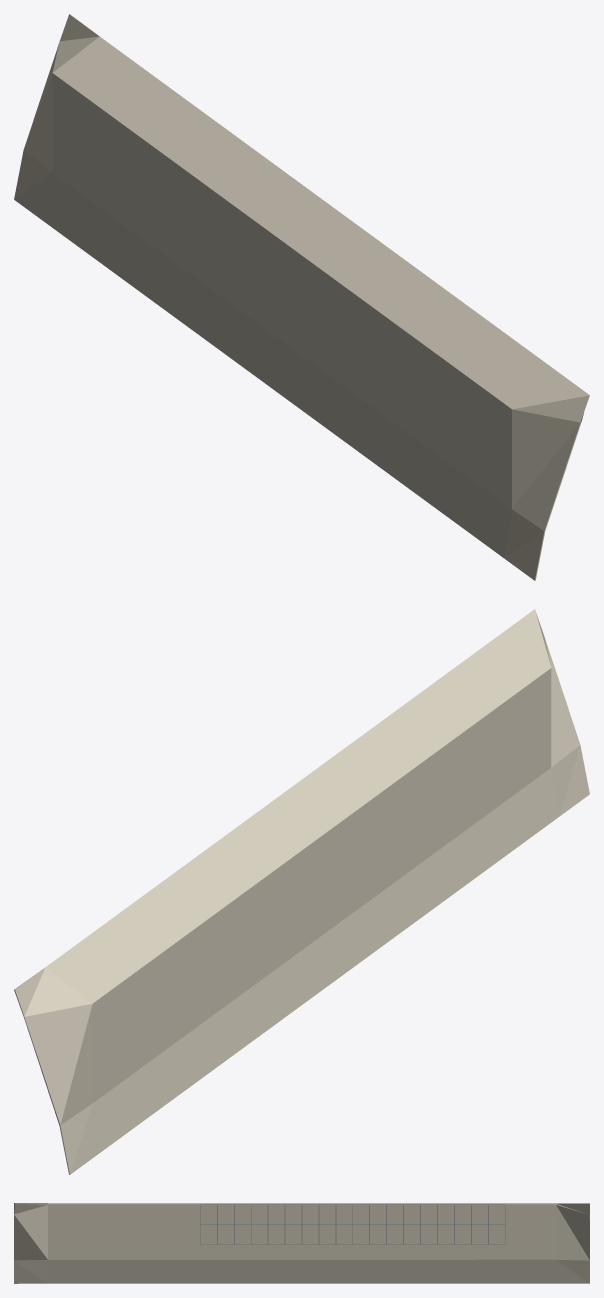
Rendered from AST-HUL-002.glb.
3 views of the same model, one above another, from view 1: azimuth 30°, elevation 25°; view 2: azimuth 150°, elevation 25°; view 3: azimuth 270°, elevation 25° (orthographic). The views are drawn at different scales.
Visible parts, largest first — view 1: HUL2_FullShoulderSkin; view 2: HUL2_FullShoulderSkin; view 3: HUL2_FullShoulderSkin.
Part boxes in pixels (x1,y1,x2,y2): HUL2_FullShoulderSkin: (14, 14, 589, 580); HUL2_FullShoulderSkin: (14, 609, 589, 1174); HUL2_FullShoulderSkin: (14, 1203, 589, 1283).
Size of the model in its own units: 10.57 by 31.04 by 170.
2 materials, 2 textured.
